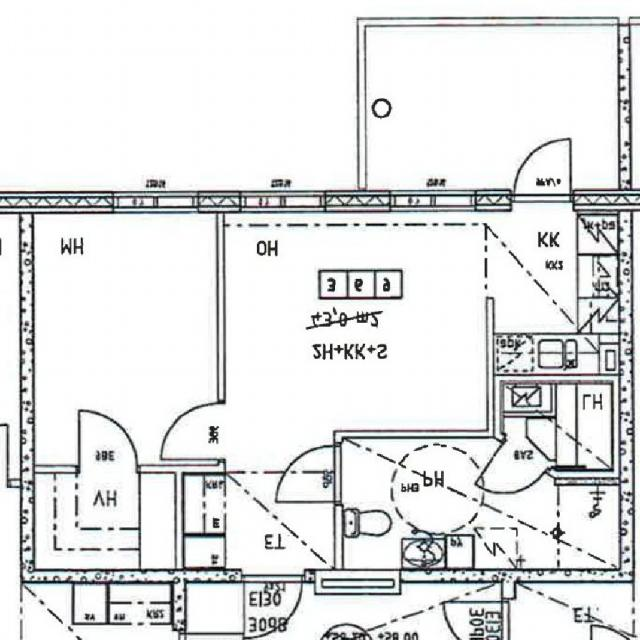door: (472, 435, 550, 512), (515, 134, 572, 210), (244, 568, 302, 638), (276, 445, 344, 501), (160, 404, 226, 458), (81, 410, 137, 473)
